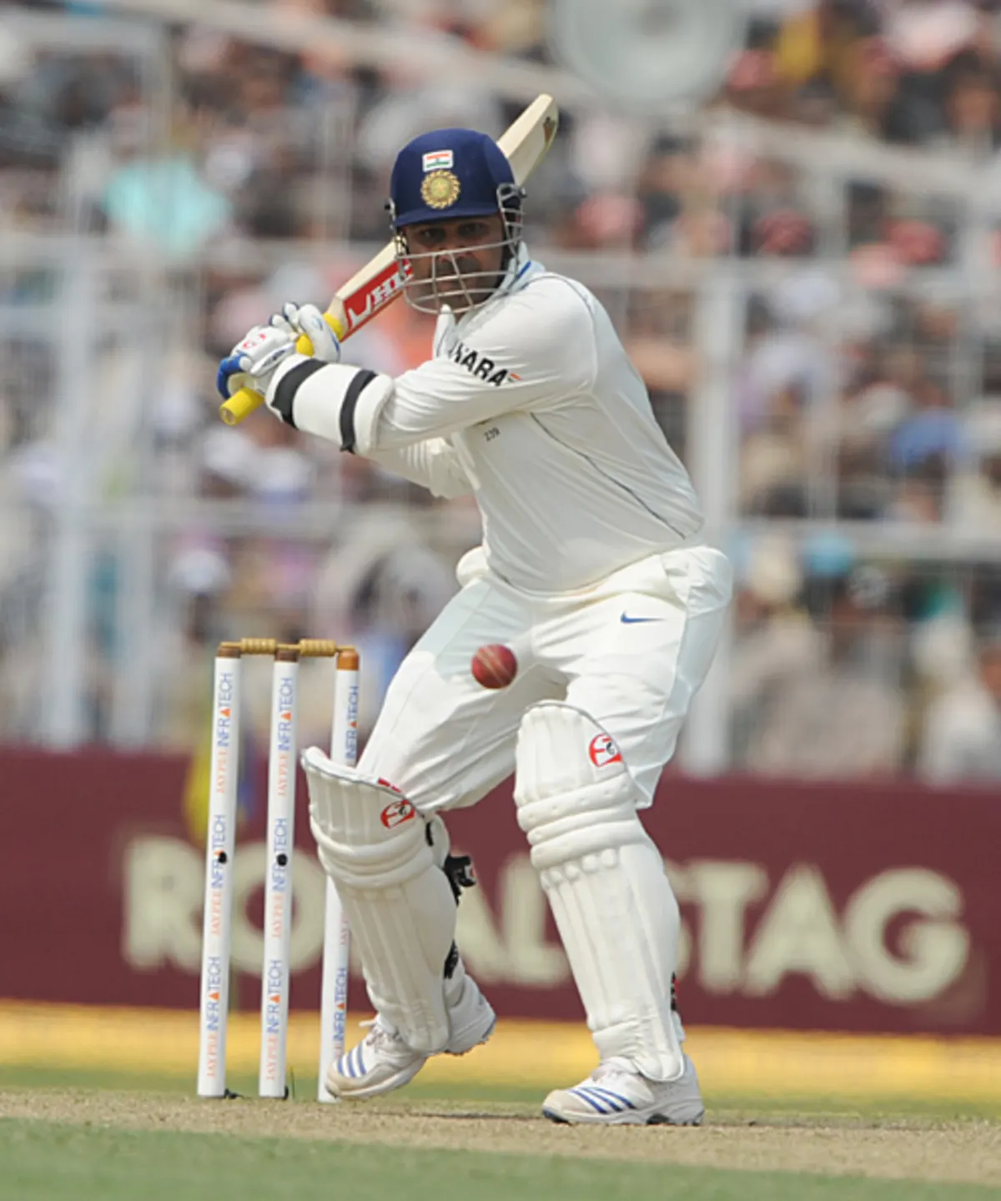Cutshot: (81, 57, 953, 1171)
